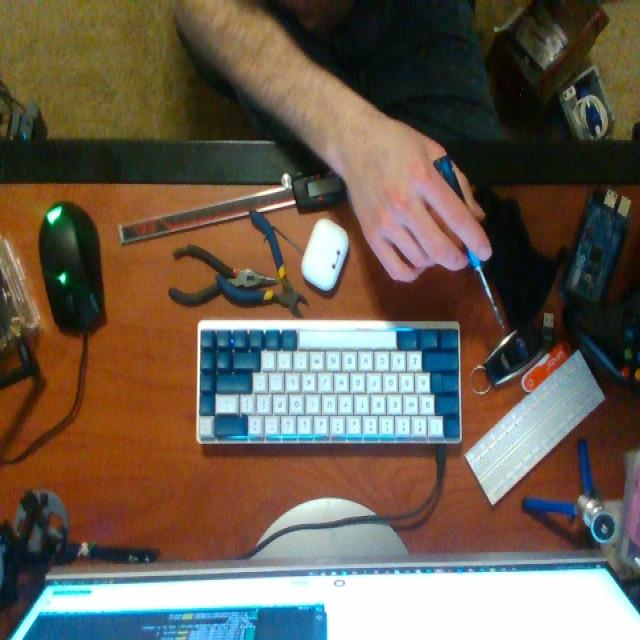keyboard: (197, 319, 464, 443)
